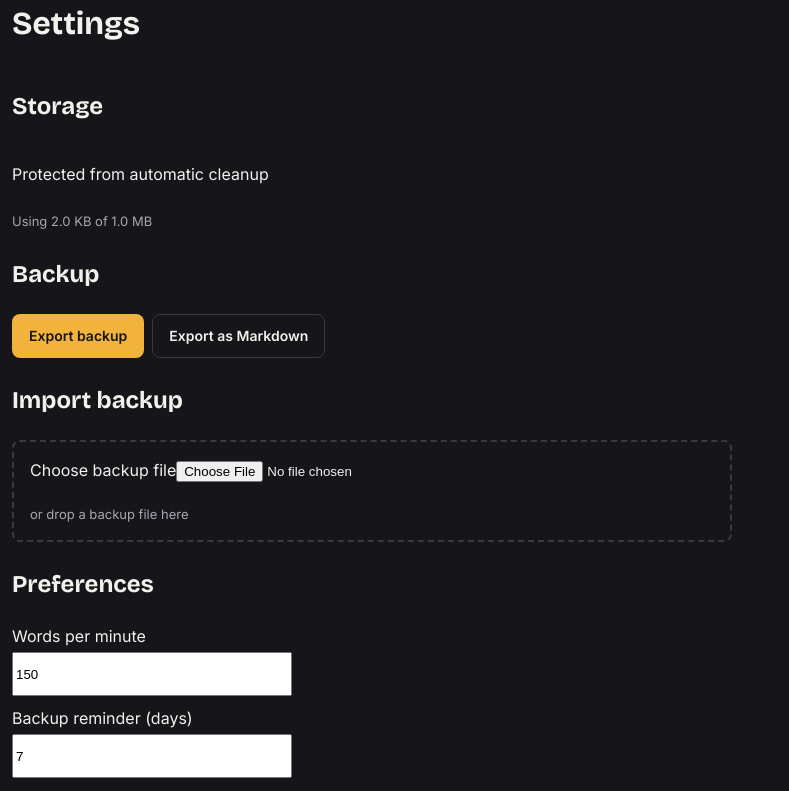
SettingsPage export › downloads JSON, sets lastExportAt and toasts counts
Click the button "Export backup": (78, 336) [12,314,144,358]
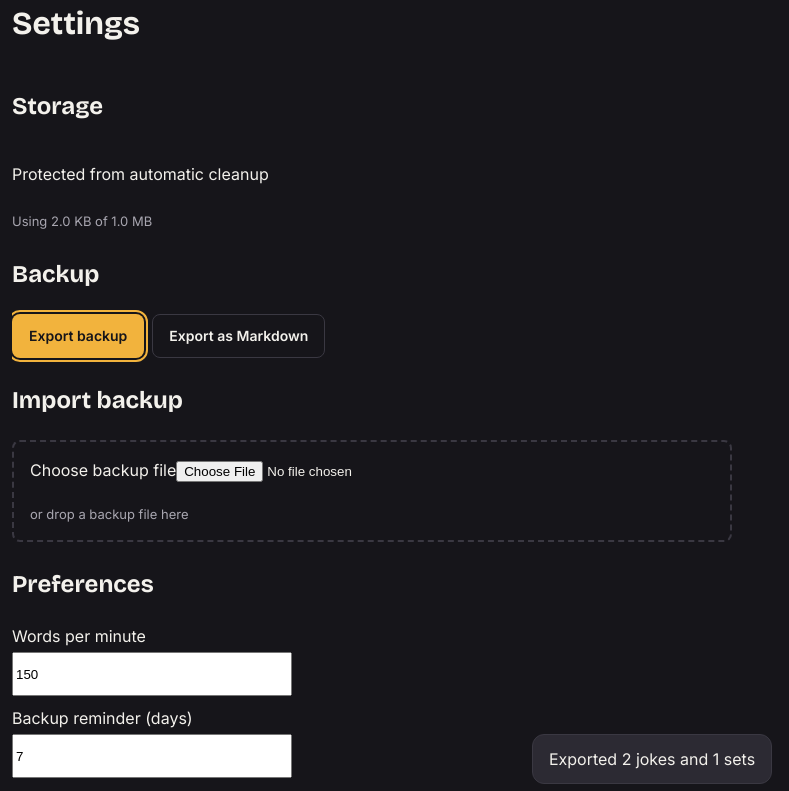
Now the text "Exported 2 jokes and 1 sets" is shown, box [532,734,772,784]
